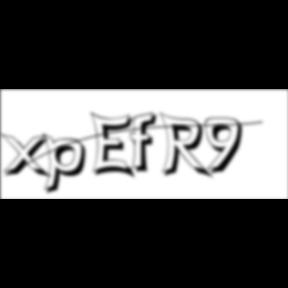9: (204, 117, 250, 177)
E: (91, 110, 140, 182)
R: (160, 112, 216, 182)
f: (130, 111, 163, 175)
p: (43, 132, 93, 198)
x: (1, 132, 55, 181)
